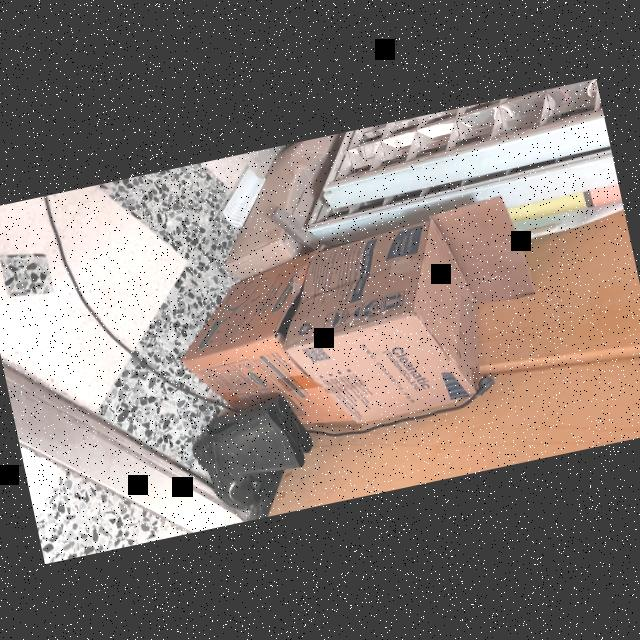cardboard_box: (258, 192, 550, 434), (165, 246, 352, 456)
